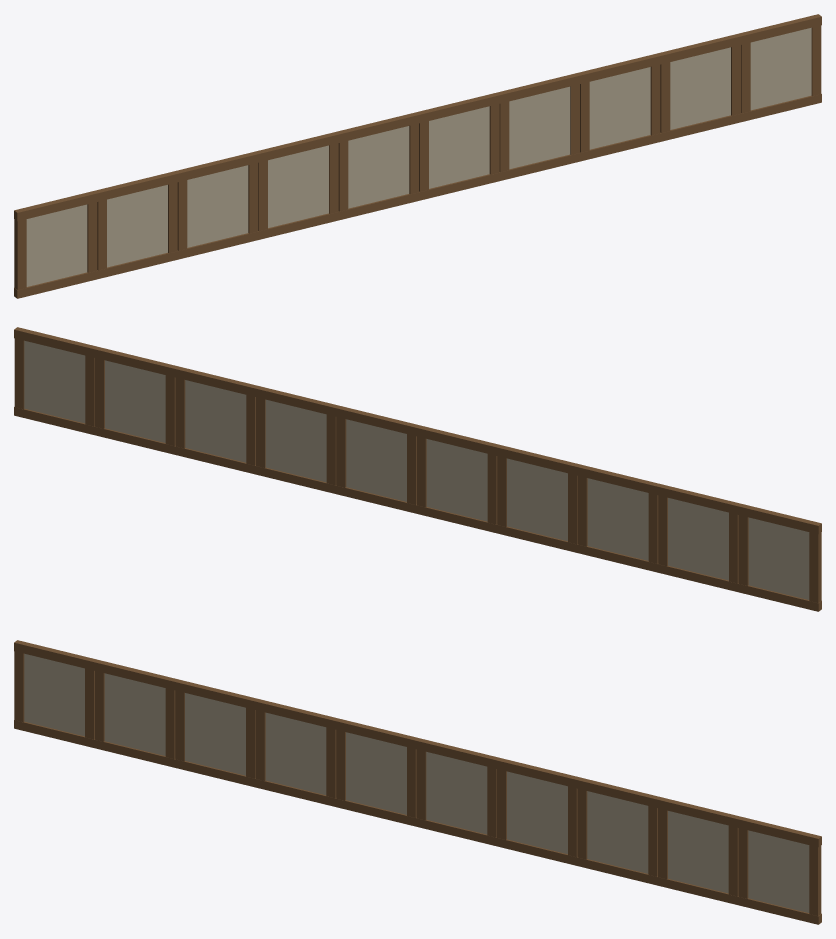
Rendered from wall.fbx.
3 views of the same model, one above another, from view 1: azimuth 30°, elevation 25°; view 2: azimuth 150°, elevation 25°; view 3: azimuth 330°, elevation 25° (orthographic).
Visible parts, largest first — view 1: Cube.001; view 2: Cube.001; view 3: Cube.001.
Part boxes in pixels (box(x1,y1,x2,y2)): Cube.001: box(14, 14, 821, 298); Cube.001: box(14, 327, 821, 611); Cube.001: box(14, 640, 821, 924).
Bounding box in the file's own units: 2075 × 212 × 15.54.
